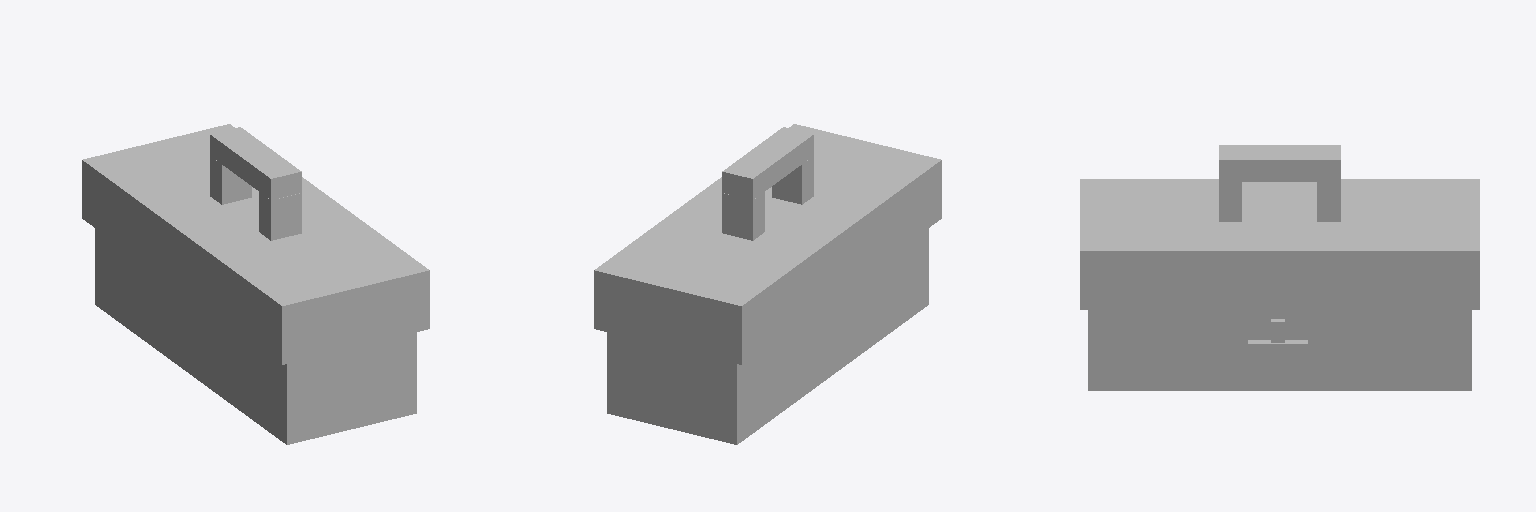
Rendered from curaG.obj.
3 renders of one model, left to right at view 1: azimuth 30°, elevation 25°; view 2: azimuth 150°, elevation 25°; view 3: azimuth 270°, elevation 25°, orthographic.
Visible parts, largest first — view 1: V_Vida_Grande; view 2: V_Vida_Grande; view 3: V_Vida_Grande.
Boxes of the visible parts, box(x1,y1,x2,y2) form: V_Vida_Grande: box(82, 124, 429, 444); V_Vida_Grande: box(594, 124, 941, 444); V_Vida_Grande: box(1080, 145, 1479, 390).
Bounding box in the file's own units: 0.5239 × 0.6991 × 1.23.